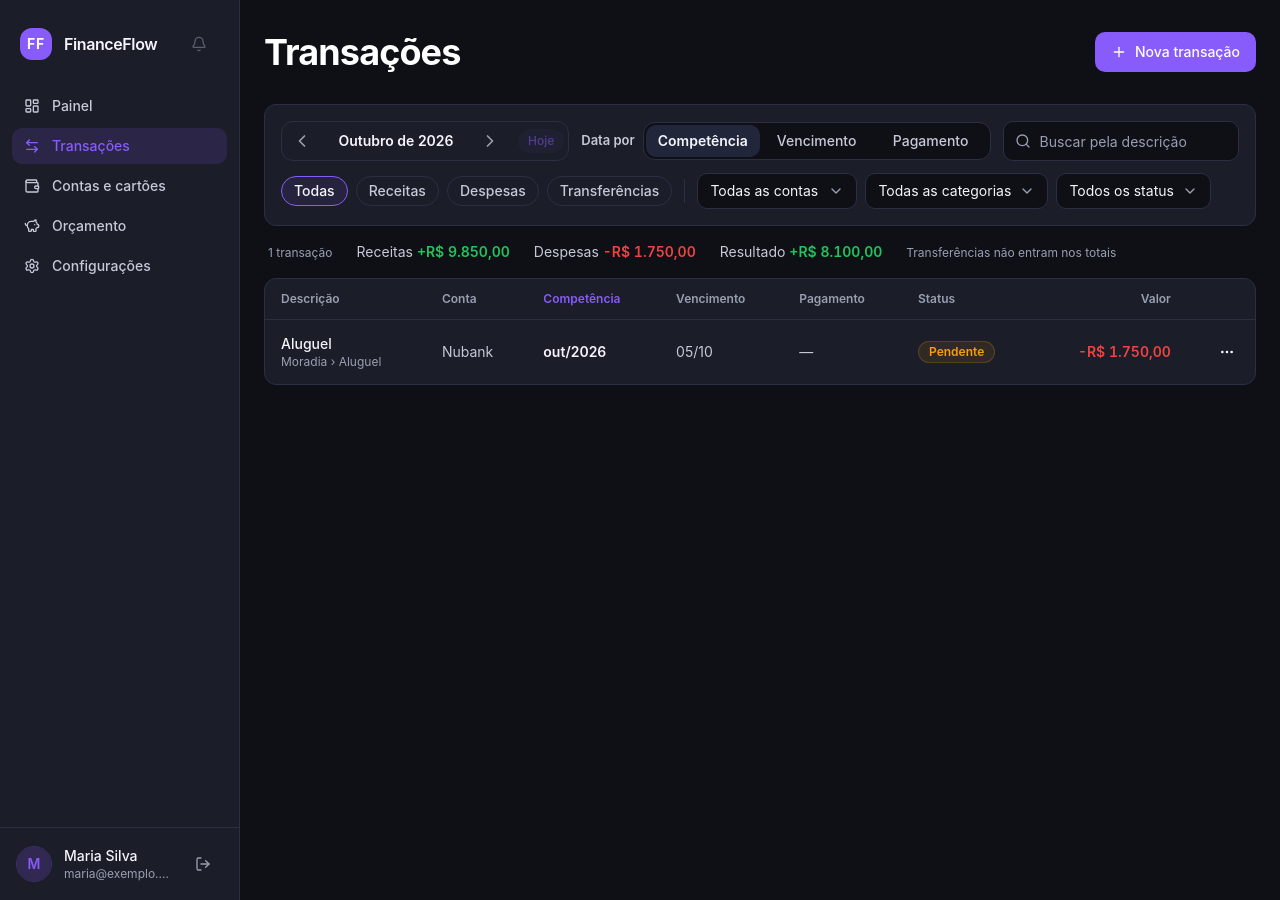
Test: transações › mostra no campo o erro devolvido pela API
Click the button named "Ações de Aluguel" at (1227, 352), box x1=1207 y1=332 x2=1247 y2=372
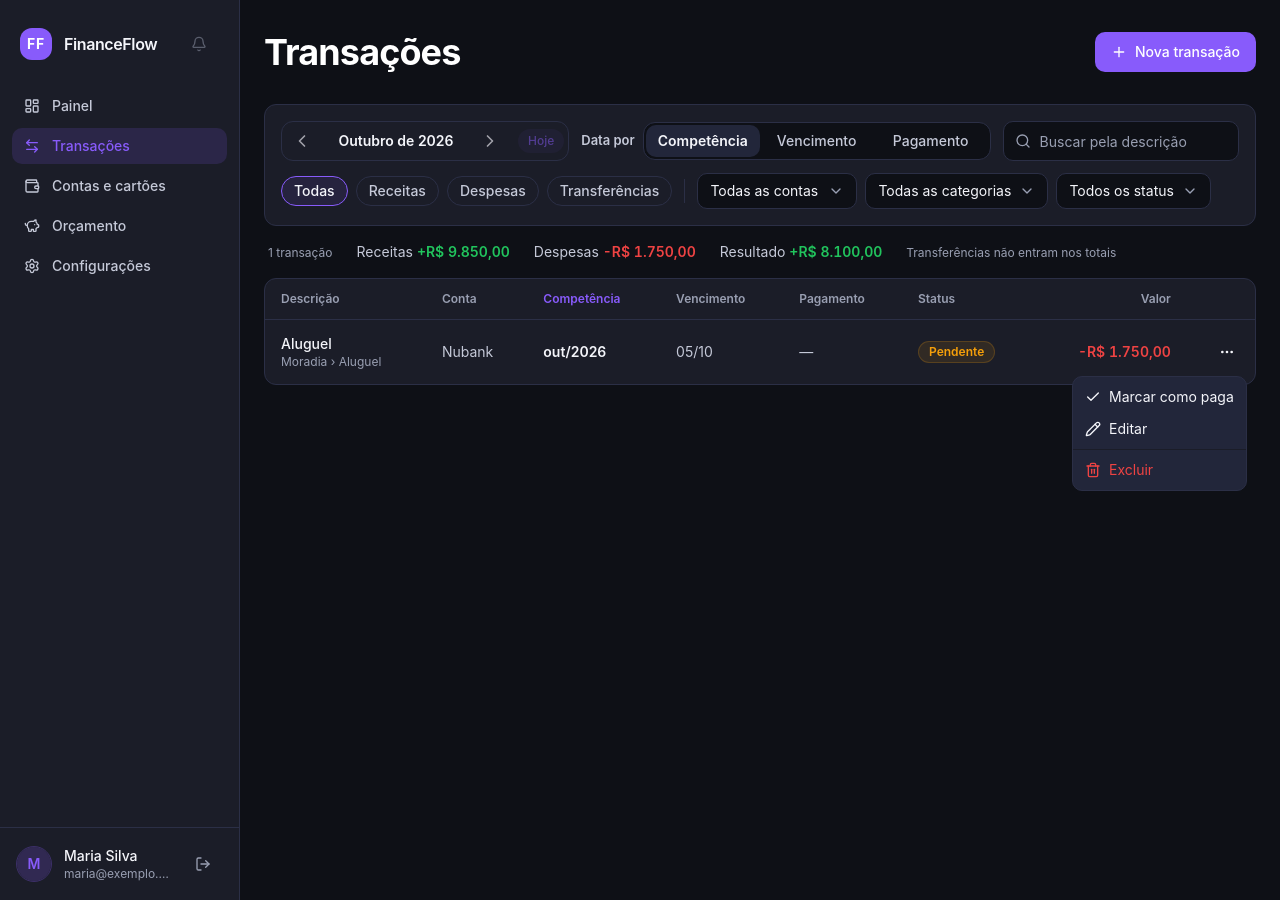
Click the menu item "Editar" at (1116, 428), box x1=1085 y1=420 x2=1147 y2=437
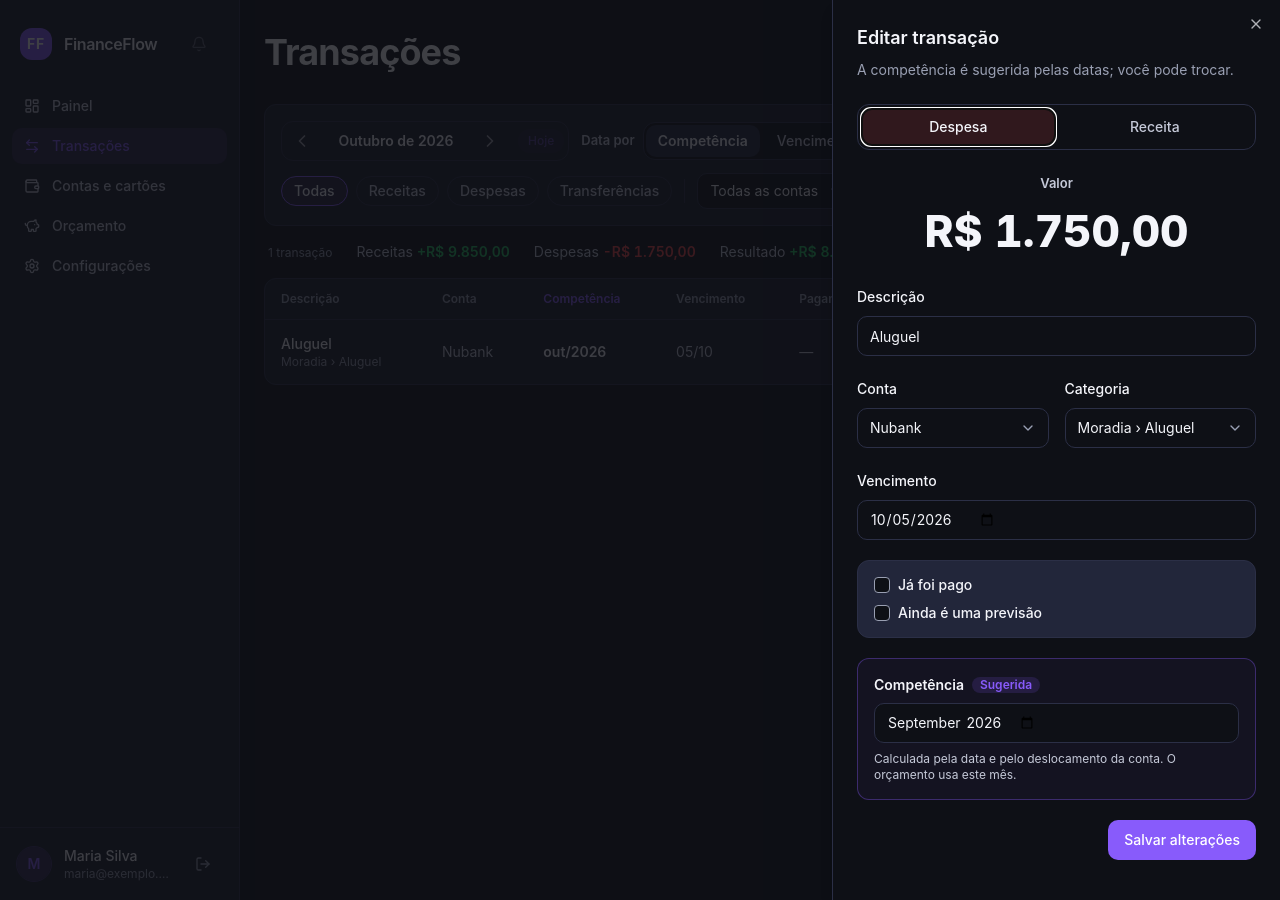
Click the button "Salvar alterações" at (1182, 840), box x1=1108 y1=820 x2=1256 y2=860
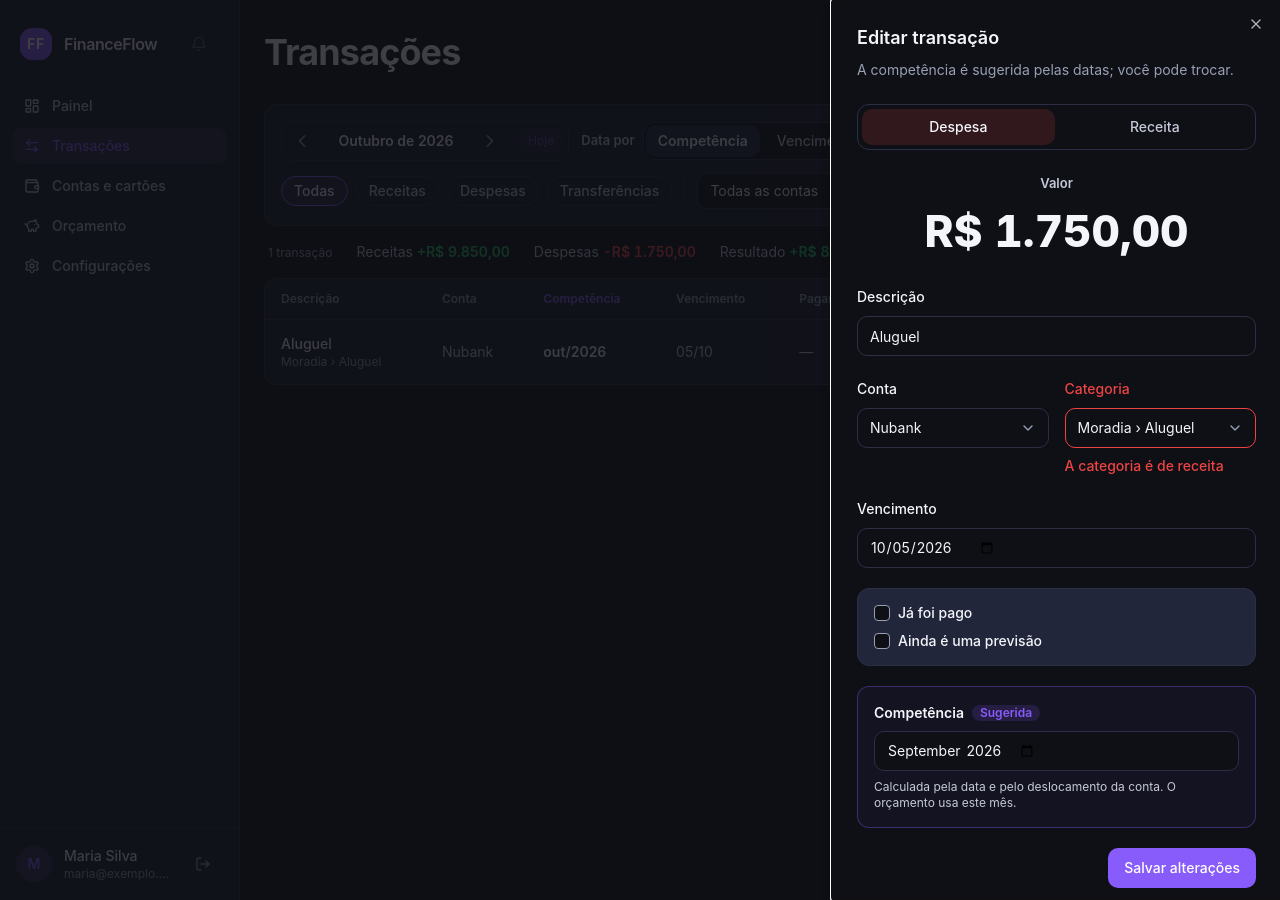
Now the text "A categoria é de receita" is shown, box x1=1064 y1=457 x2=1224 y2=474
